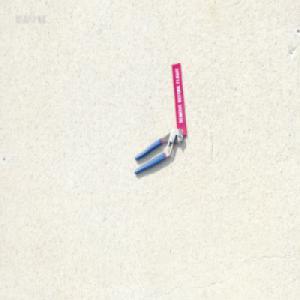Label: (170, 62, 187, 137)
Pliers: (133, 127, 183, 175)
